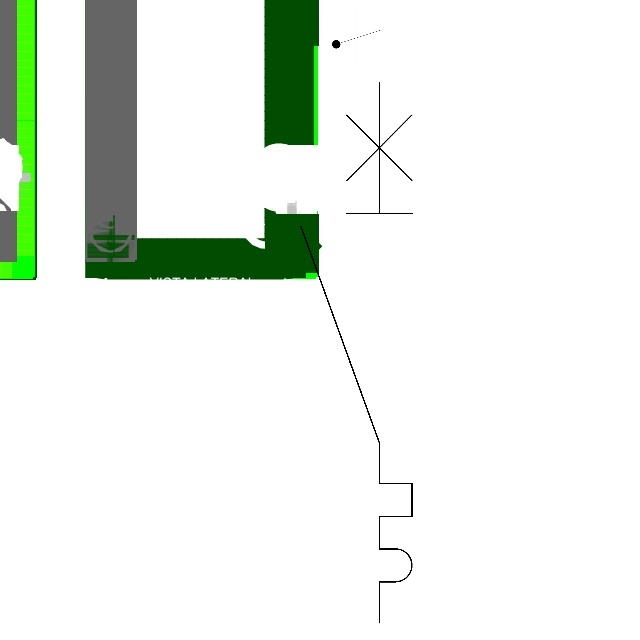interruptor_termomagnetico: (287, 68, 426, 636)
